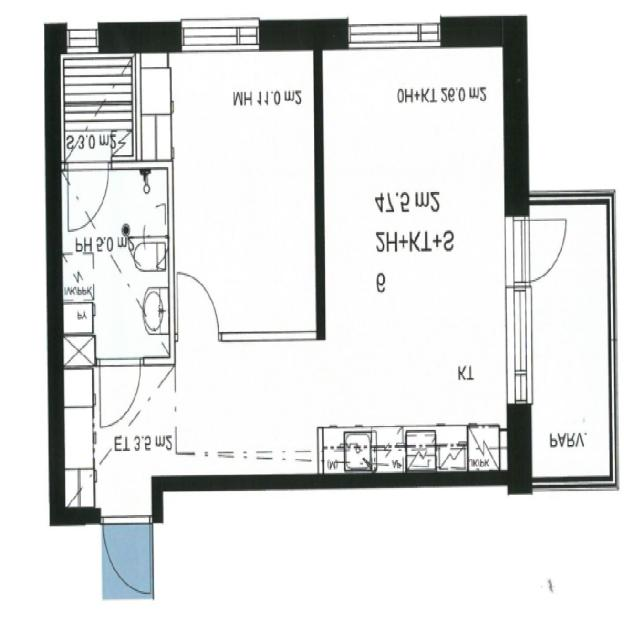door: (102, 508, 150, 594), (505, 221, 570, 283), (67, 161, 108, 231), (179, 271, 220, 341), (100, 357, 140, 426)
